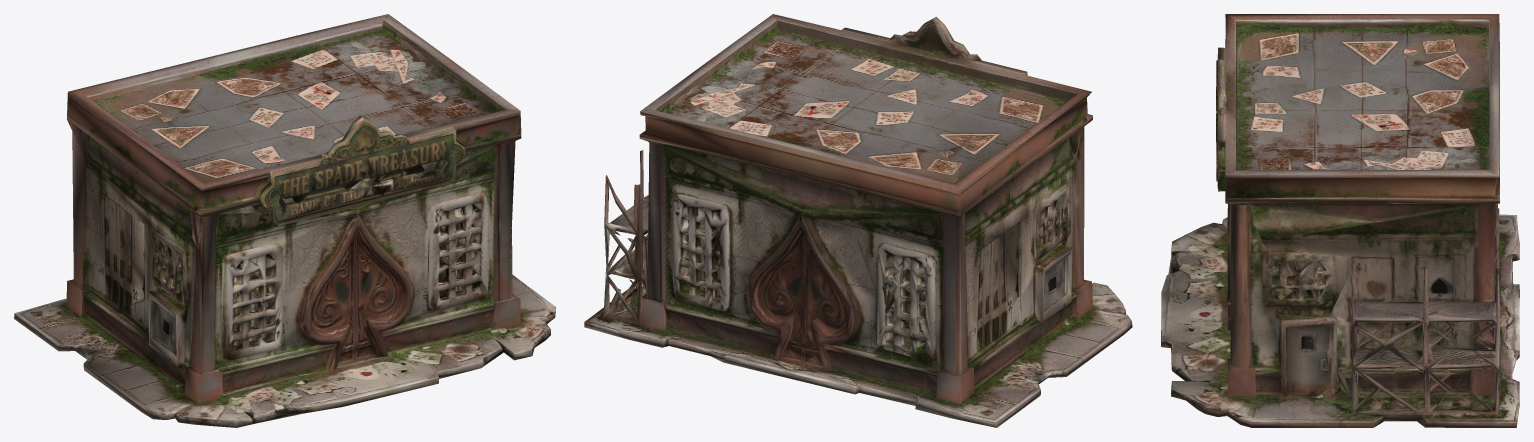
File: Meshy_AI_The_Spade_Treasury_Ba_0515171058_texture.fbx
3 views of the same model, side by side, from view 1: azimuth 30°, elevation 25°; view 2: azimuth 150°, elevation 25°; view 3: azimuth 270°, elevation 25° (orthographic). The views are drawn at different scales.
Parts seen in each view (by area): view 1: Mesh_0; view 2: Mesh_0; view 3: Mesh_0.
Boxes of the visible parts, x1,y1,x2,y2 form: Mesh_0: (14,14,555,427); Mesh_0: (584,14,1132,427); Mesh_0: (1161,14,1519,427).
Size of the model in its own units: 191 by 113 by 139.
1 material, 1 textured.
